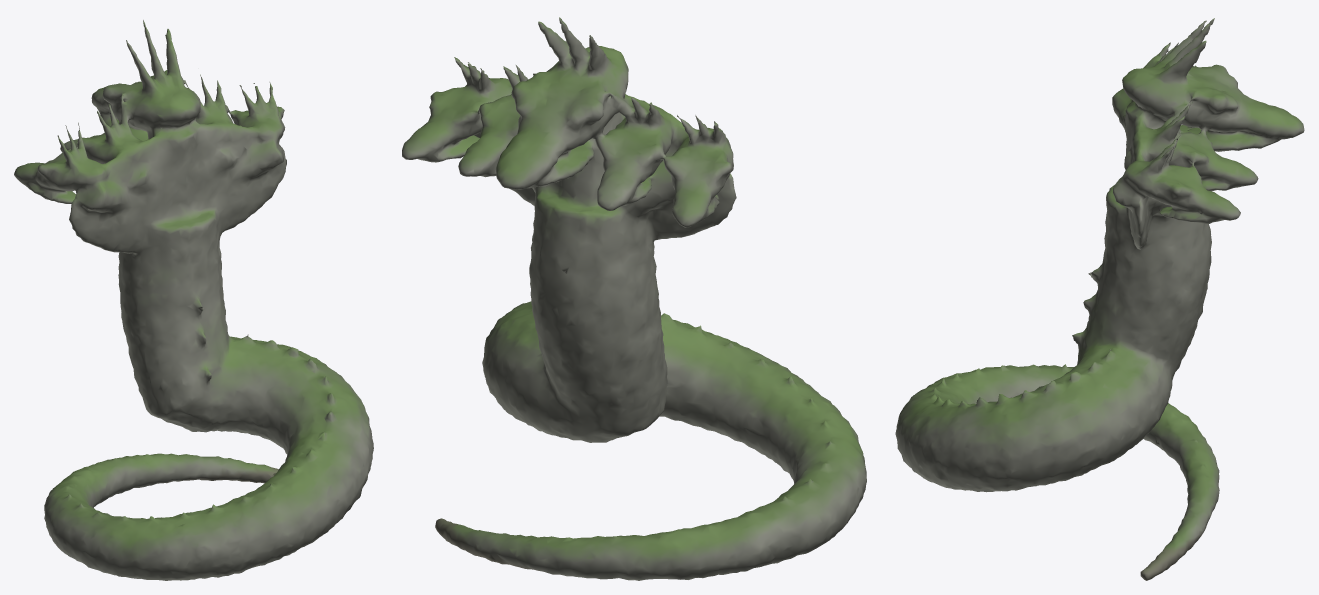
Rendered from naga_statue.glb.
The picture shows the model from 3 angles, left to right: view 1: azimuth 30°, elevation 25°; view 2: azimuth 150°, elevation 25°; view 3: azimuth 270°, elevation 25°; orthographic projection. The views are drawn at different scales.
Parts seen in each view (by area): view 1: NagaStatue; view 2: NagaStatue; view 3: NagaStatue.
Boxes of the visible parts, x1,y1,x2,y2 form: NagaStatue: (14, 20, 373, 580); NagaStatue: (402, 17, 866, 580); NagaStatue: (895, 18, 1304, 580).
Bounding box in the file's own units: 2.77 × 4.38 × 3.25.
